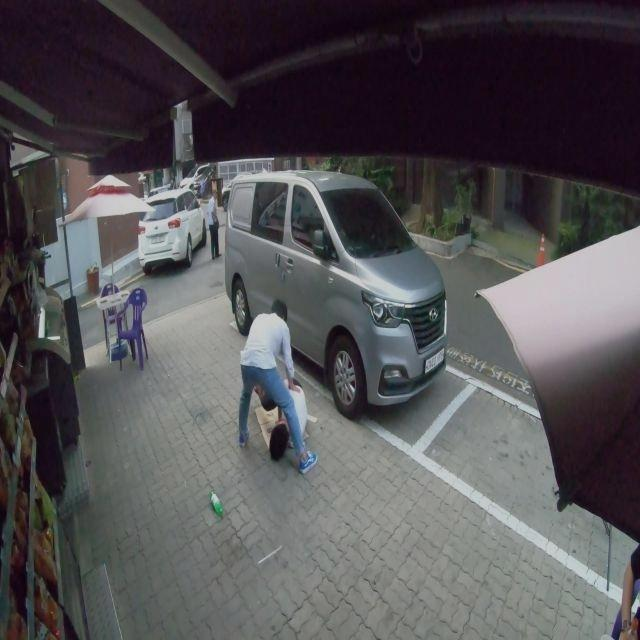fight: (233, 297, 316, 476)
